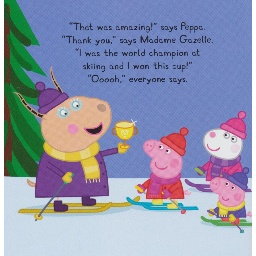Peppa: (136, 127, 188, 209)
